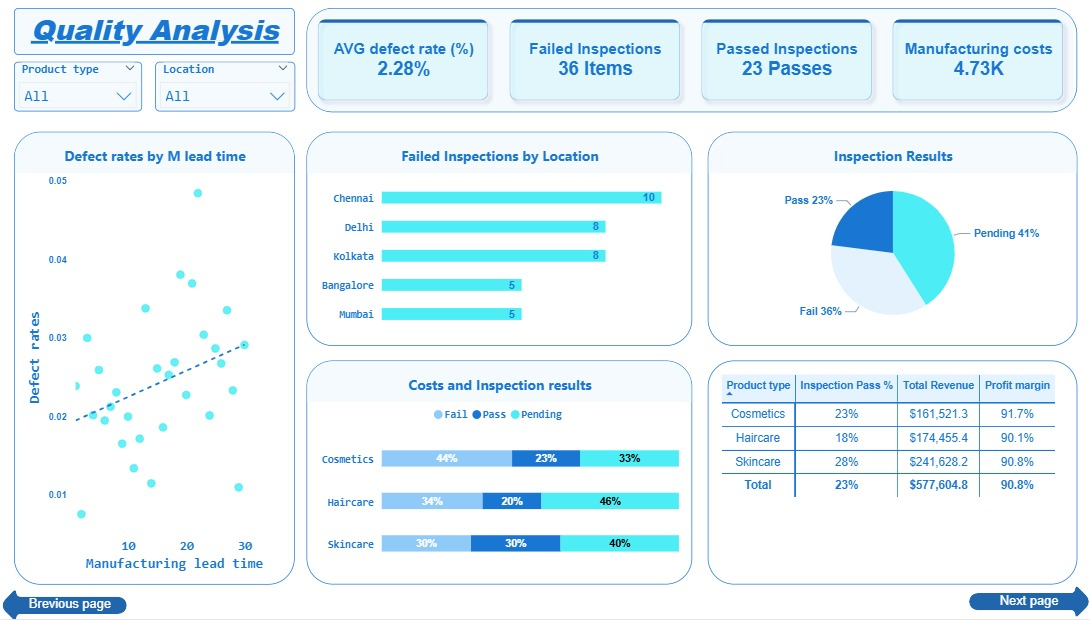

What the dashboard file says about the page in this screenshot:
{"tool":"powerbi","page":{"name":"Quality","canvas":[1248,716],"ordinal":1},"visuals":[{"type":"cardVisual","fields":{"Data":["Key Measures.AVG defect rate (%)","Key Measures.Failed Inspections (Card)","Key Measures.Passed Inspections (Card)","Sum(supply_chain_data.Manufacturing costs)"]},"box":[351.7,17.3,880.4,118.9],"z":0},{"type":"pieChart","title":"Inspection Results","fields":{"Y":["CountNonNull(supply_chain_data.Inspection results)"],"Category":["supply_chain_data.Inspection results"]},"box":[809.8,158.5,422.3,245.2],"z":1000},{"type":"clusteredBarChart","fields":{"Y":["Key Measures.Failed Inspections"],"Category":["supply_chain_data.Location"]},"box":[351.7,158.5,440.8,245.2],"z":2000},{"type":"hundredPercentStackedBarChart","title":" Costs and Inspection results","fields":{"Y":["Sum(supply_chain_data.Costs)"],"Category":["supply_chain_data.Product type"],"Series":["supply_chain_data.Inspection results"]},"box":[351.7,419.8,440.8,256.3],"z":3000},{"type":"pivotTable","fields":{"Rows":["supply_chain_data.Product type"],"Values":["Key Measures.Inspection Pass %","Key Measures.Total Revenue","Key Measures.Profit margin"]},"box":[809.8,419.8,422.3,256.3],"z":4000},{"type":"scatterChart","title":"Defect rates by M lead time","fields":{"X":["supply_chain_data.Manufacturing lead time"],"Y":["supply_chain_data.Defect rates"]},"box":[17.3,158.5,320.7,517.6],"z":5000},{"type":"textbox","box":[17.4,17.4,321,53.5],"z":6000},{"type":"slicer","fields":{"Values":["supply_chain_data.Product type"]},"box":[17.3,79.2,146.1,57],"z":7000},{"type":"actionButton","box":[0,679.8,146.1,39.6],"z":8000},{"type":"actionButton","box":[1108.3,676.1,141.2,39.6],"z":9000},{"type":"slicer","fields":{"Values":["supply_chain_data.Location"]},"box":[178.3,79.2,159.7,57],"z":10000}]}

Visuals, with their boxes in screenshot pixels (x1, y1, x2, y2), scaled from the page's 1248x716 canvas onto the 1090x620 screenshot:
cardVisual - Key Measures.AVG defect rate (%) x Key Measures.Failed Inspections (Card): [307, 15, 1076, 118]
"Inspection Results" pieChart: [707, 137, 1076, 350]
clusteredBarChart - Key Measures.Failed Inspections x supply_chain_data.Location: [307, 137, 692, 350]
" Costs and Inspection results" hundredPercentStackedBarChart: [307, 364, 692, 585]
pivotTable - supply_chain_data.Product type x Key Measures.Inspection Pass %: [707, 364, 1076, 585]
"Defect rates by M lead time" scatterChart: [15, 137, 295, 585]
textbox: [15, 15, 296, 61]
slicer - supply_chain_data.Product type: [15, 69, 143, 118]
actionButton: [0, 589, 128, 619]
actionButton: [968, 585, 1089, 619]
slicer - supply_chain_data.Location: [156, 69, 295, 118]
